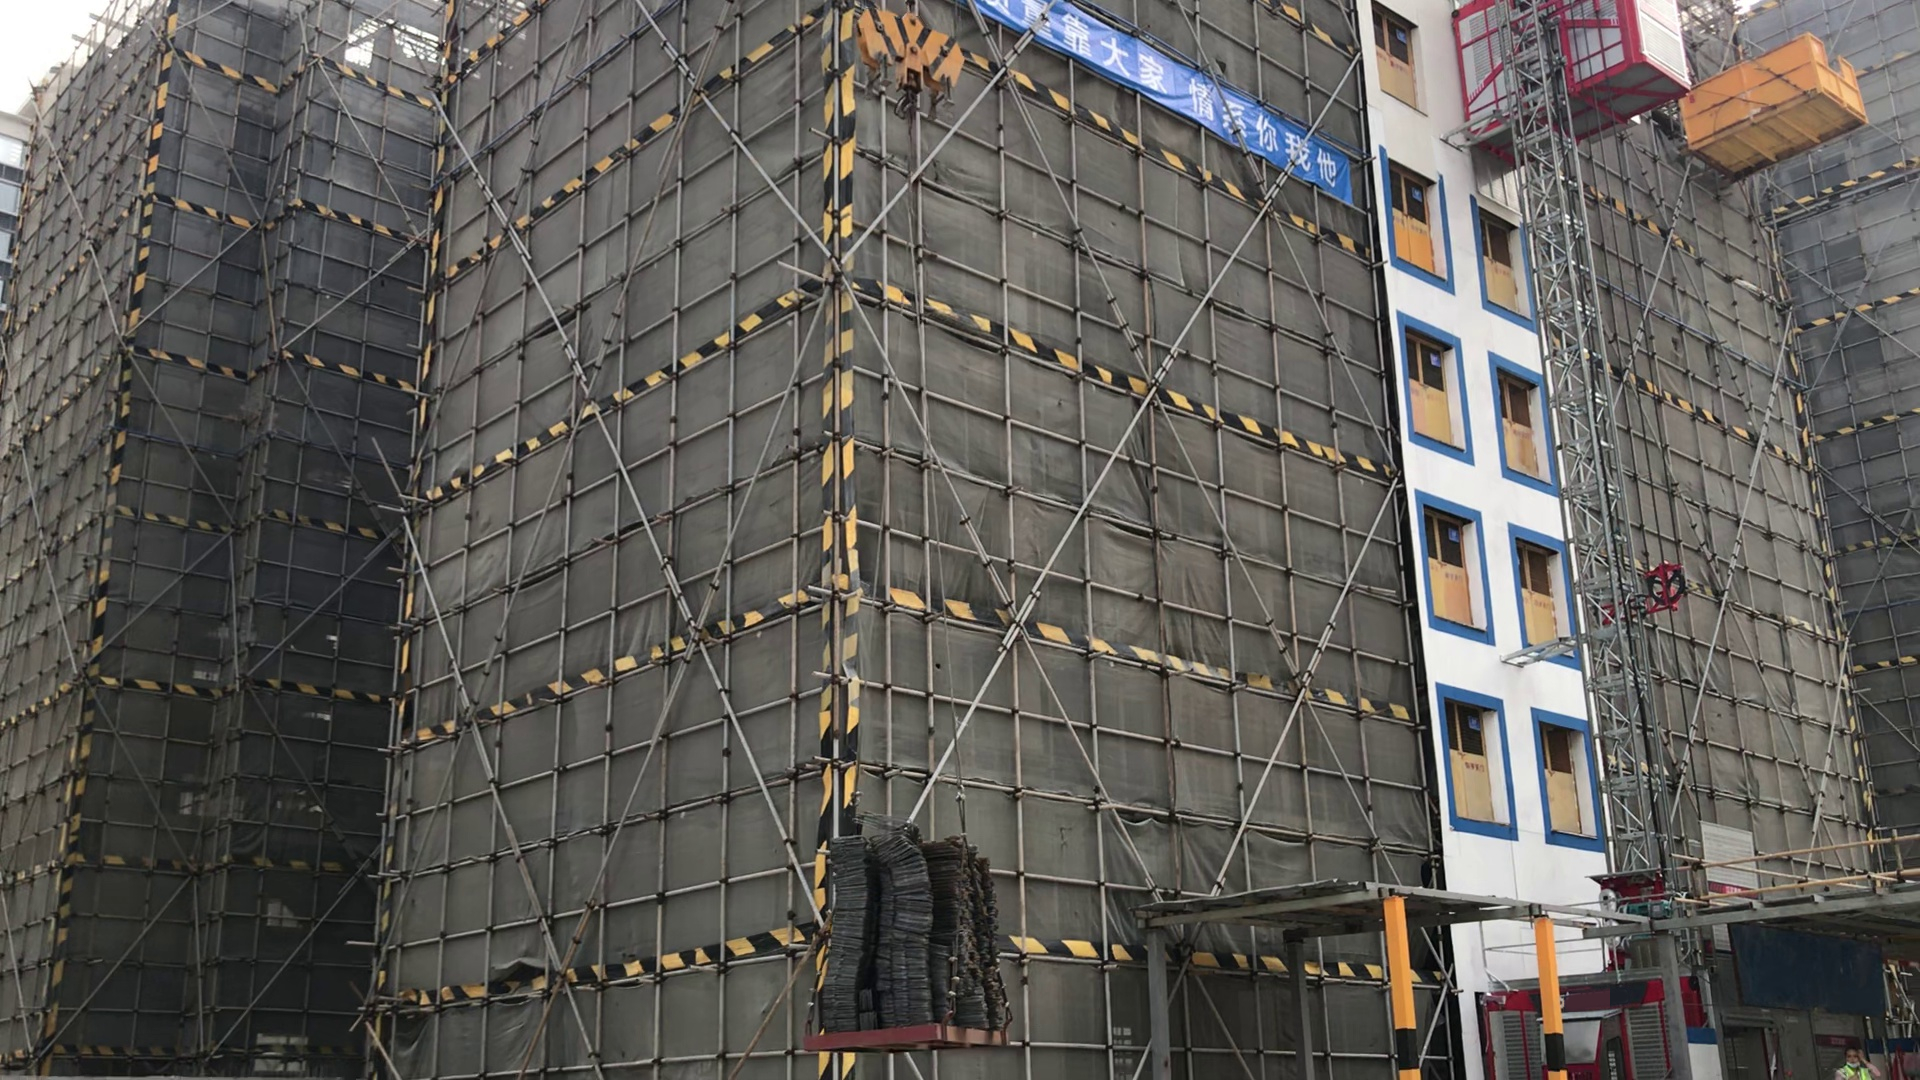hook: (837, 6, 965, 121)
person: (1829, 1043, 1882, 1078)
slogan: (969, 9, 1354, 209)
vest: (1837, 1066, 1872, 1079)
